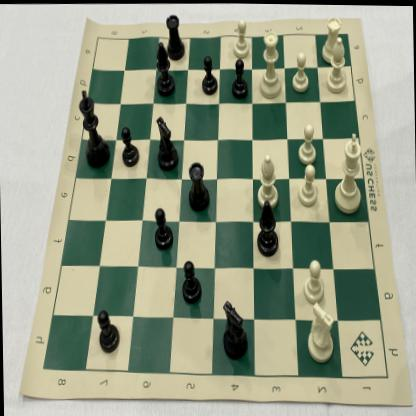black-bishop: (252, 196, 282, 260), (152, 36, 176, 99)
black-king: (76, 85, 110, 171)
black-knight: (216, 294, 251, 363), (154, 111, 180, 175)
black-pawn: (94, 303, 124, 357), (177, 255, 204, 307), (150, 204, 174, 253), (227, 55, 251, 101), (119, 122, 142, 169), (200, 52, 220, 99)
black-rook: (184, 156, 213, 214), (163, 10, 186, 65)
white-bishop: (254, 148, 282, 210), (324, 33, 349, 95)
white-king: (331, 127, 367, 216)
white-knight: (304, 297, 337, 365)
white-pawn: (299, 254, 328, 306), (295, 161, 321, 208), (297, 119, 320, 165), (231, 15, 254, 59), (290, 50, 312, 95)
white-queen: (257, 26, 284, 101)
white-rook: (317, 11, 343, 64)
